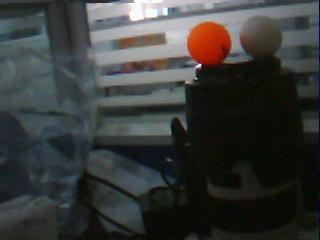oball: (188, 20, 231, 65)
